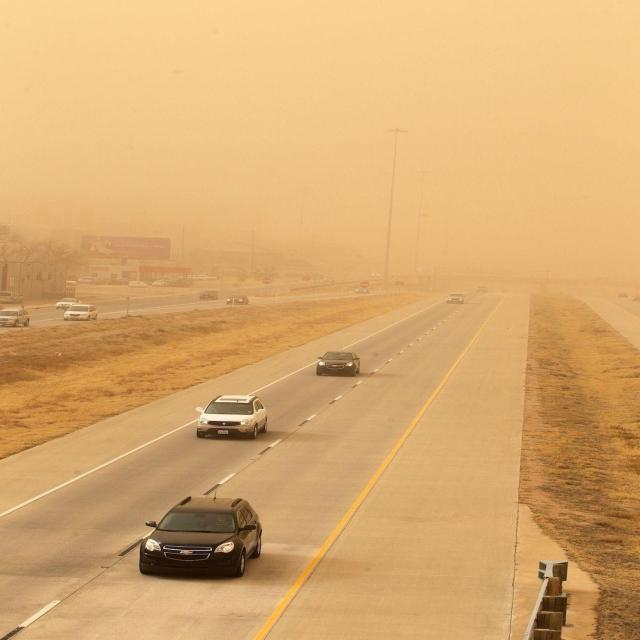Car: (126, 491, 271, 586), (192, 393, 272, 442), (314, 348, 359, 378), (64, 304, 100, 321), (0, 308, 30, 327), (54, 298, 82, 310), (0, 291, 25, 303), (226, 294, 249, 305), (445, 293, 466, 304), (198, 289, 219, 300), (354, 287, 371, 294), (476, 285, 490, 293)
